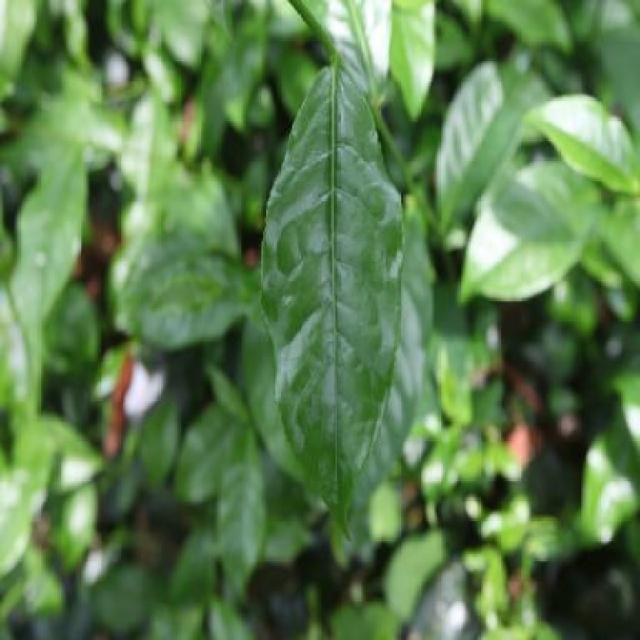Tea leaf: (262, 52, 404, 566)
